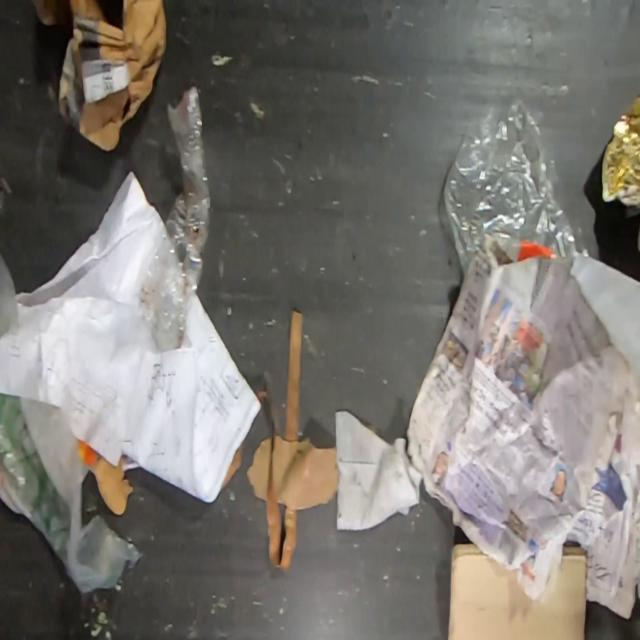cardboard: (28, 0, 167, 159), (446, 544, 586, 640), (88, 451, 136, 518)
soft_plastic: (0, 252, 142, 593), (440, 99, 588, 276), (138, 84, 212, 353)
